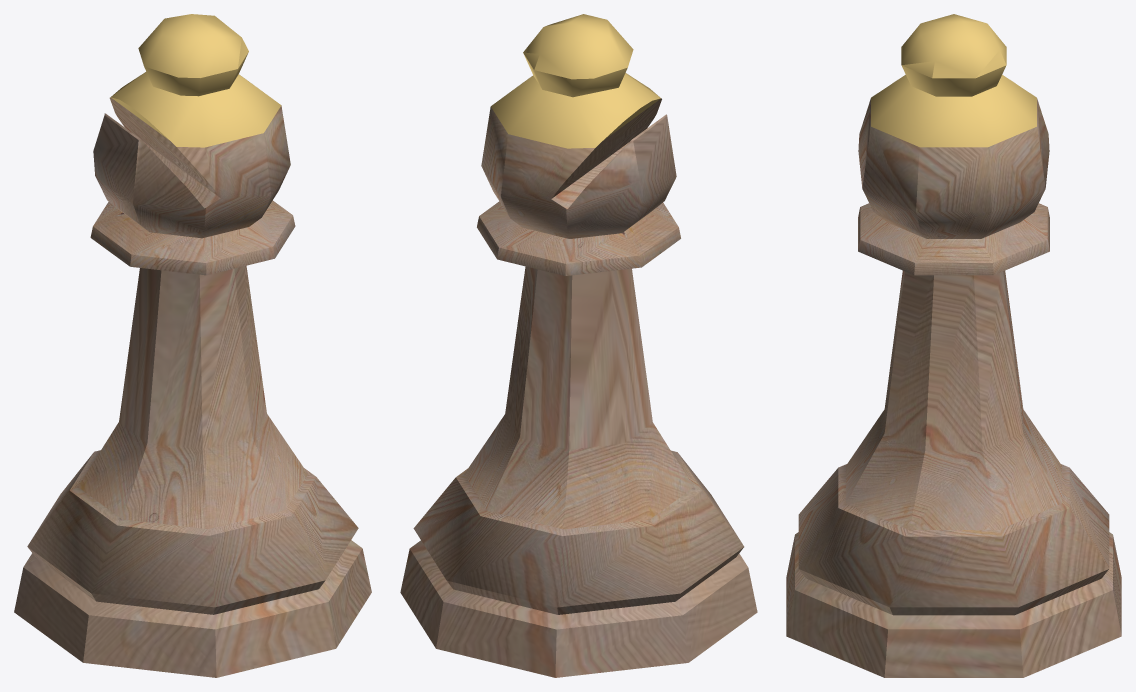
Rendered from gercek4_b_w.glb.
3 views of the same model, side by side, from view 1: azimuth 30°, elevation 25°; view 2: azimuth 150°, elevation 25°; view 3: azimuth 270°, elevation 25° (orthographic).
Parts seen in each view (by area): view 1: b; view 2: b; view 3: b.
Part boxes in pixels (<box>): b: <box>14,14,371,677</box>; b: <box>400,14,757,677</box>; b: <box>786,14,1121,677</box>.
Bounding box in the file's own units: 0.466 × 0.9 × 0.466.
2 materials, 1 textured.
